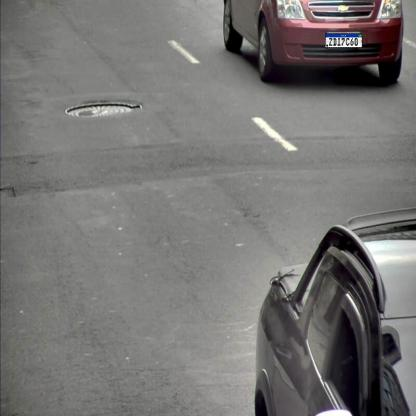PlacaM: (325, 33, 362, 48)
